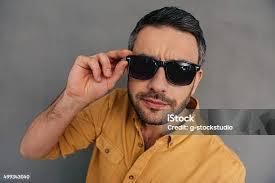sunglasses: (125, 52, 205, 88)
